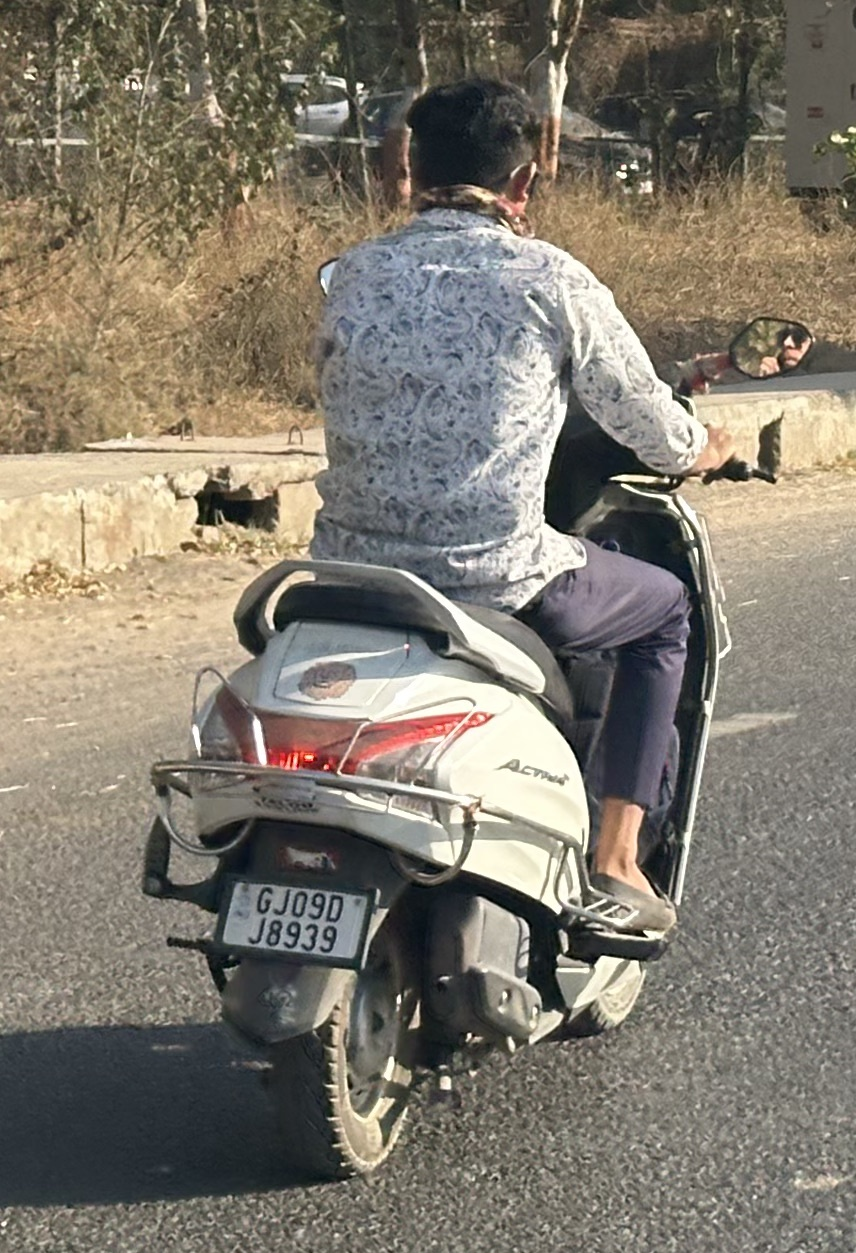BikeWithRider: (132, 66, 816, 1184)
NoHelmet: (396, 69, 556, 244)
